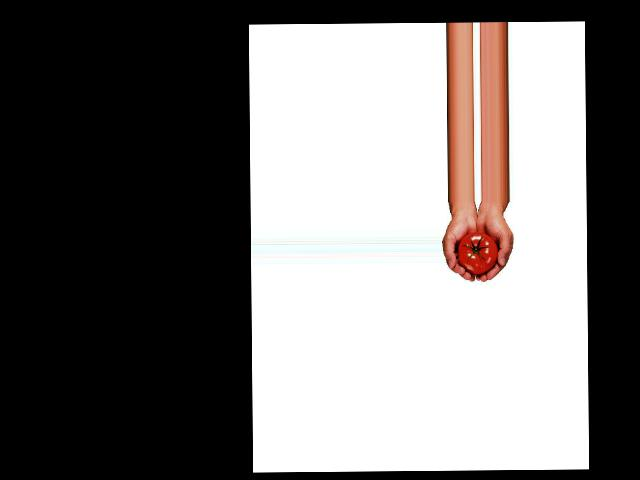tomato: (457, 232, 498, 274)
